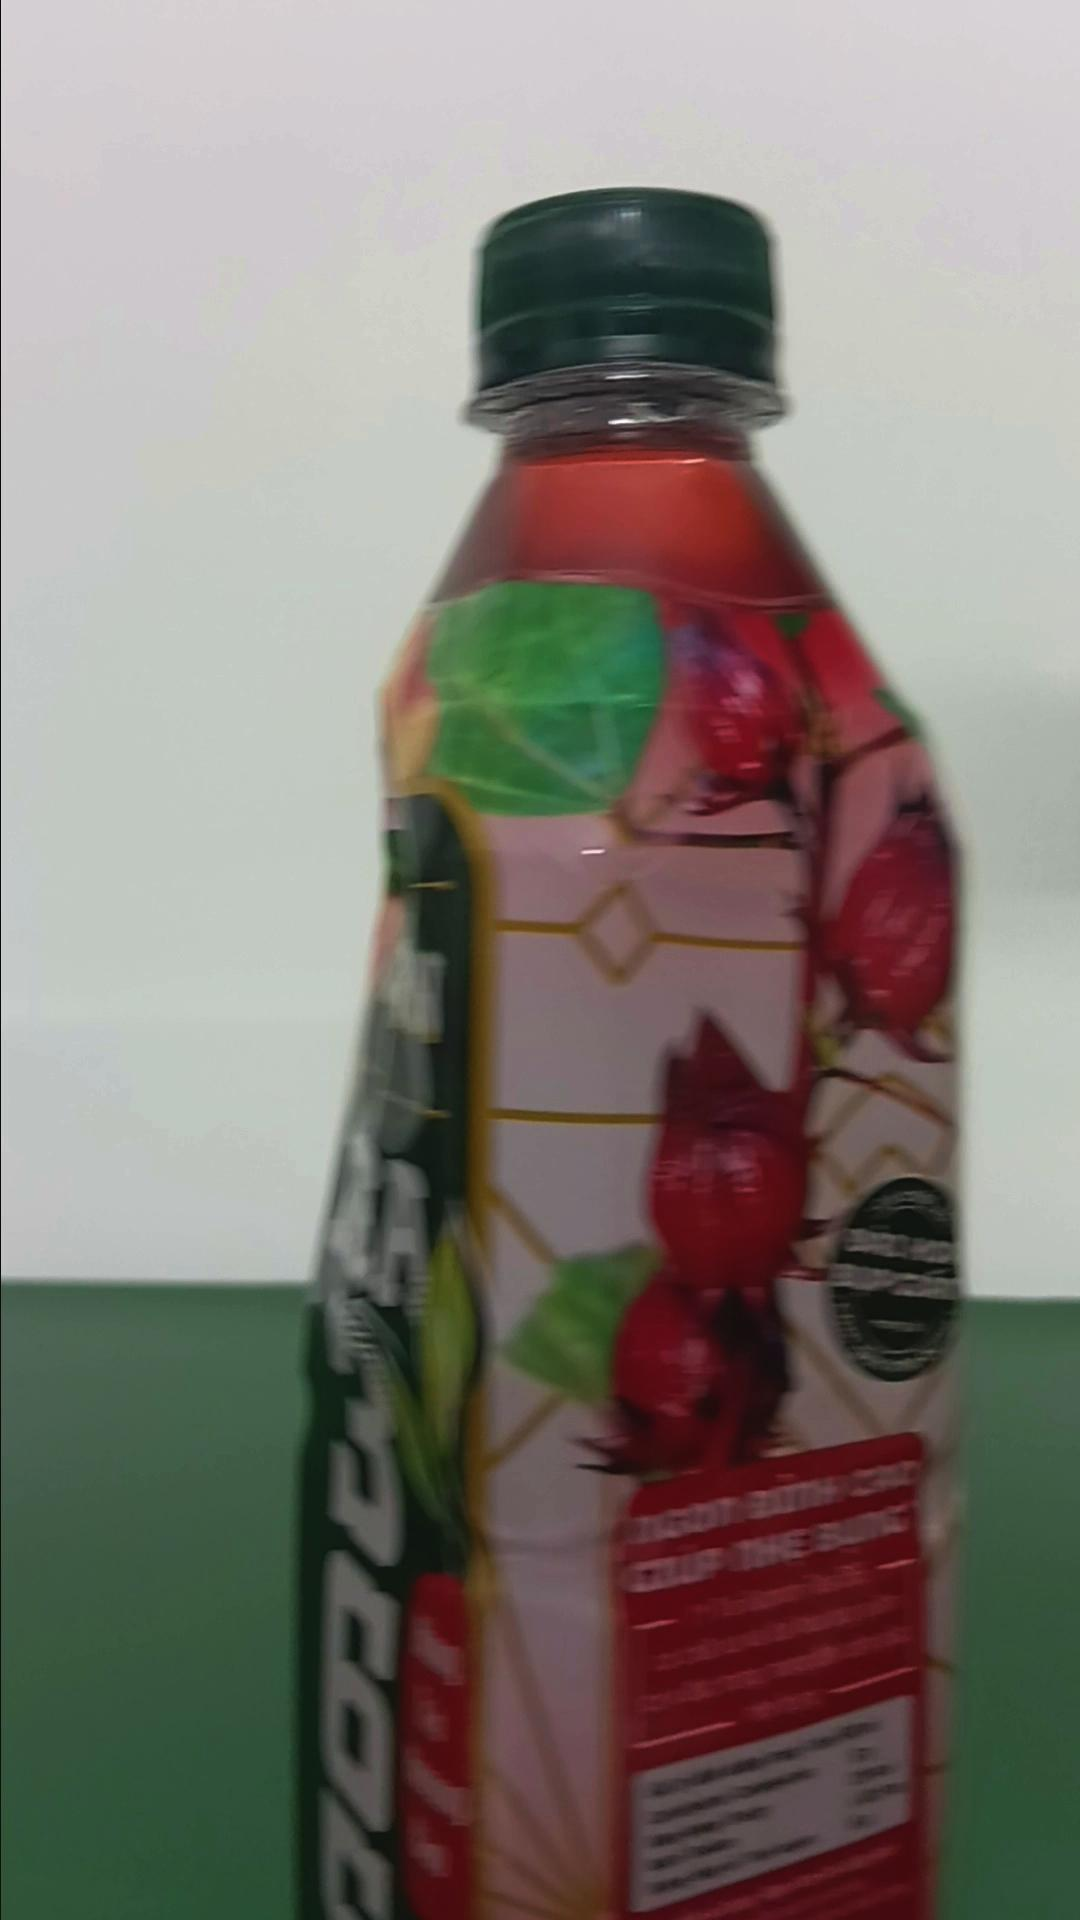loi meo sp: (291, 183, 965, 1913)
